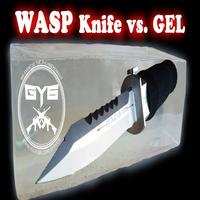knife: (32, 58, 176, 187)
